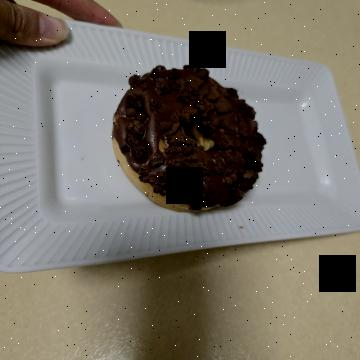doughnut: (63, 88, 233, 265)
